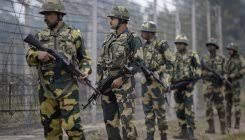gun: (27, 34, 95, 93), (77, 54, 135, 113), (136, 49, 169, 92)
uniform: (21, 19, 89, 133), (93, 25, 140, 137), (139, 34, 175, 137), (196, 35, 226, 132), (172, 32, 199, 134), (219, 38, 243, 128)
